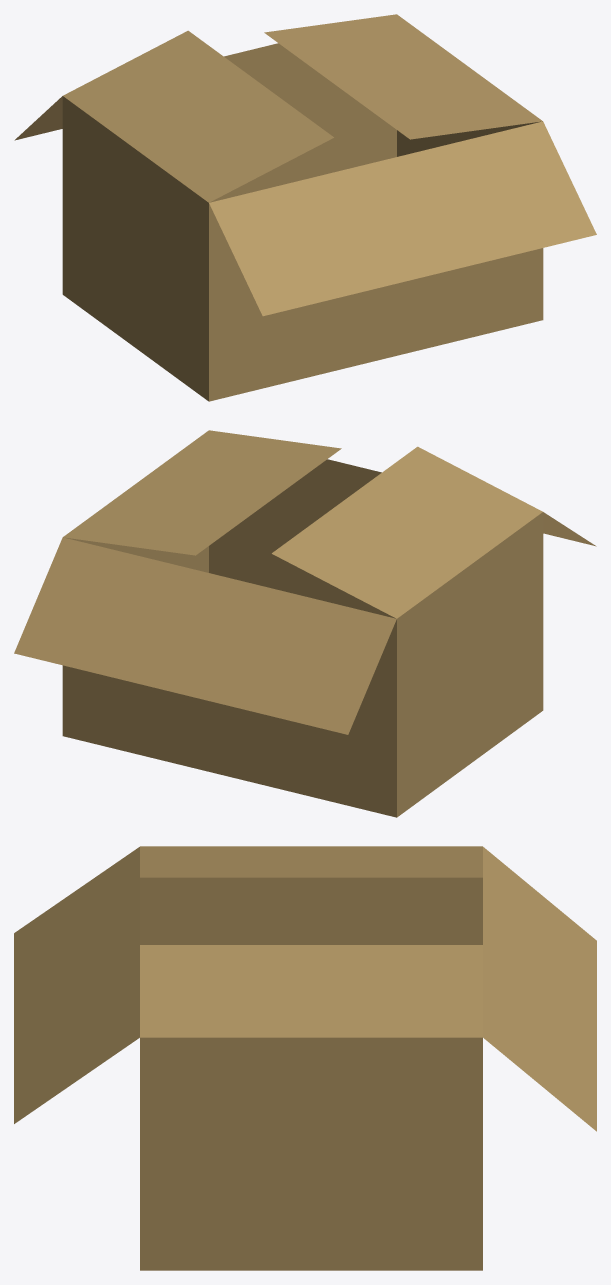
The model's file is cardboardboxOpen.fbx.
3 renders of one model, top to bottom at view 1: azimuth 30°, elevation 25°; view 2: azimuth 150°, elevation 25°; view 3: azimuth 270°, elevation 25°, orthographic. The views are drawn at different scales.
Visible parts, largest first — view 1: Cube; view 2: Cube; view 3: Cube.
Part boxes in pixels (x1,y1,x2,y2): Cube: (14,14,596,401); Cube: (14,430,596,817); Cube: (14,846,596,1270).
Bounding box in the file's own units: 106 × 70.46 × 136.
